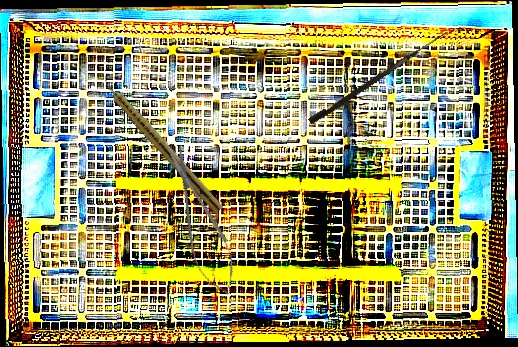Handpiece: (96, 72, 227, 215)
Hook Surgical: (307, 24, 449, 128)
Micro Scissor: (154, 140, 247, 302)
